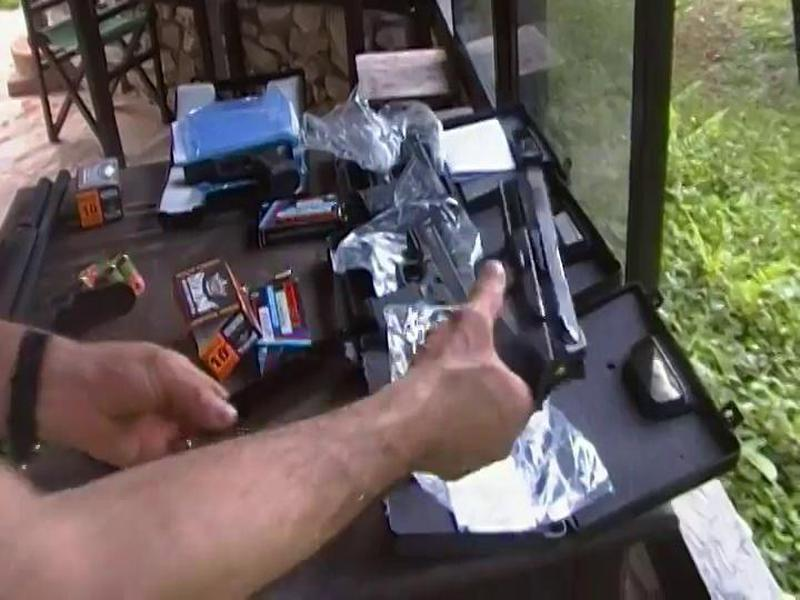Pistola: (410, 161, 626, 407)
